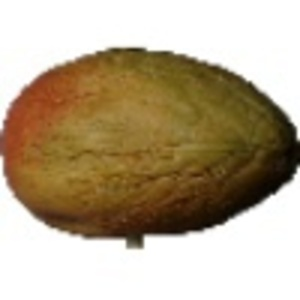mamão: (3, 42, 299, 239)
